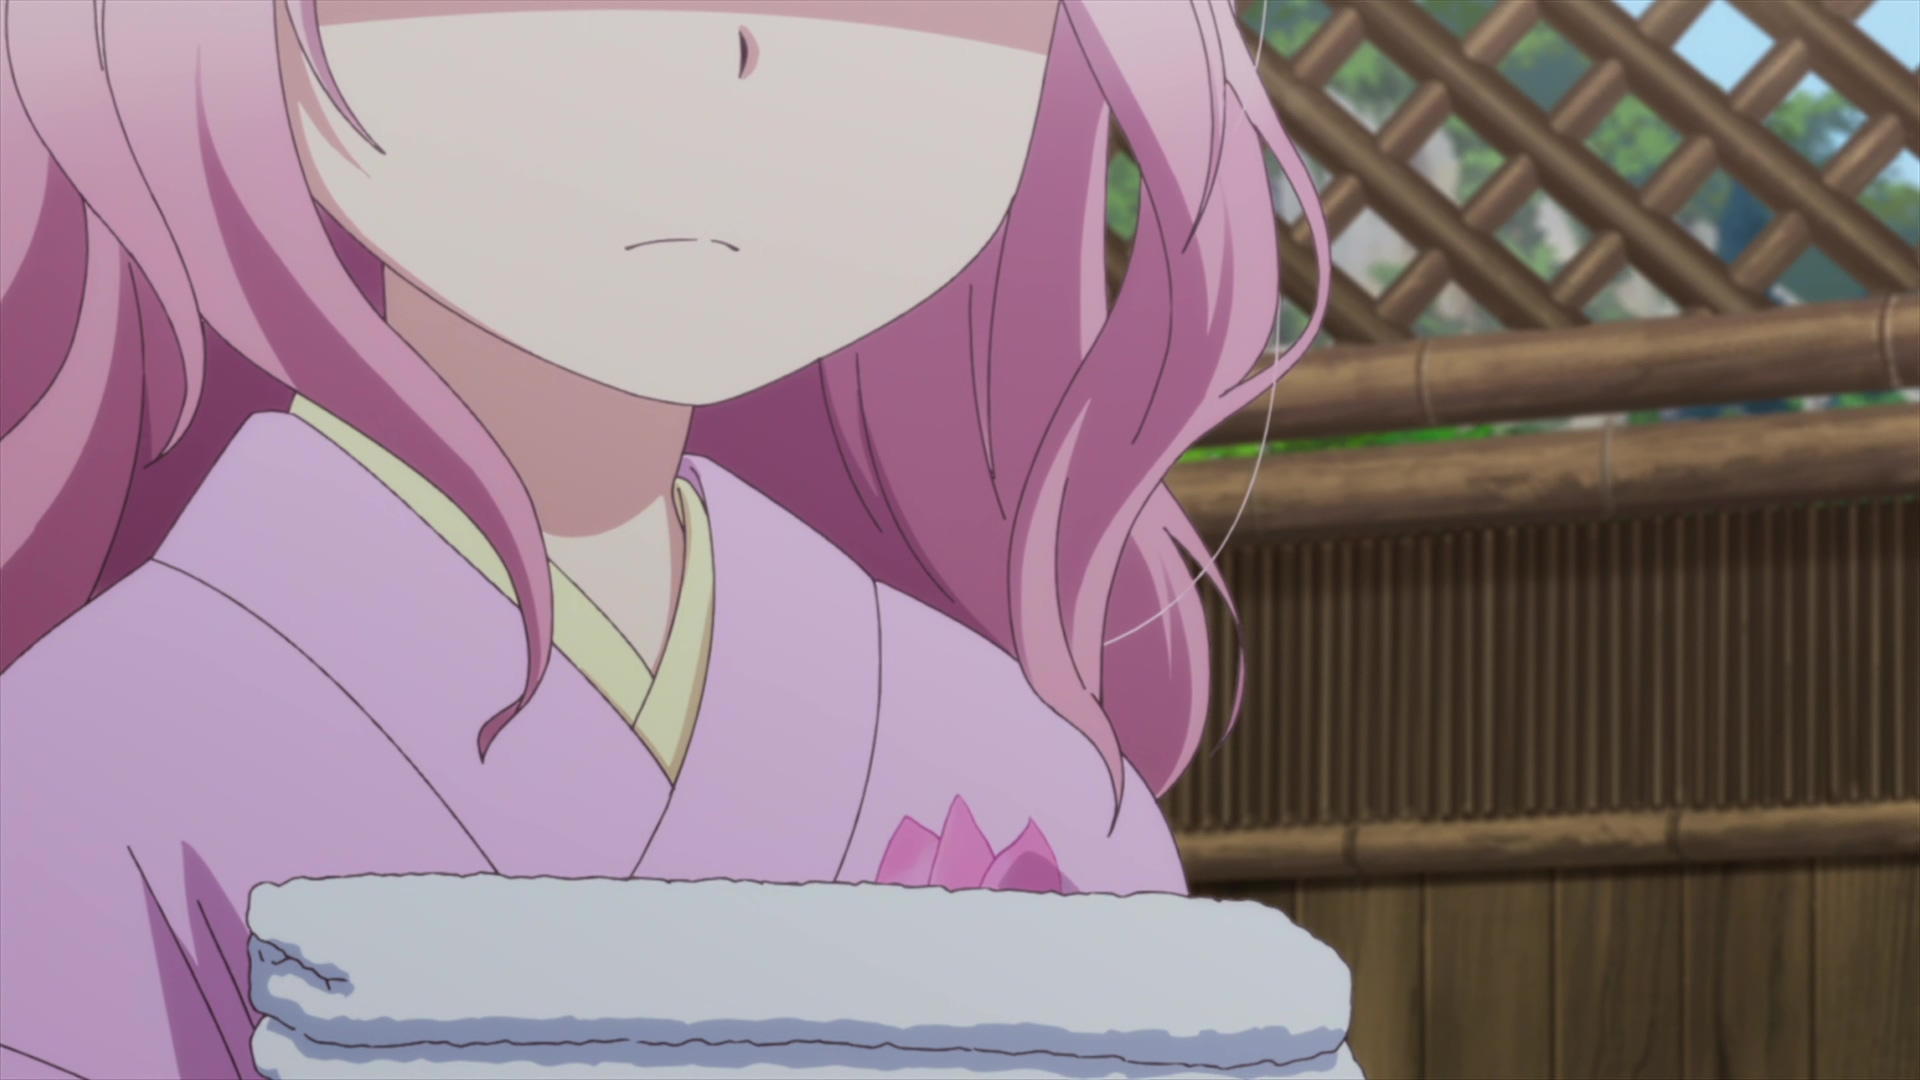莲: (1, 1, 1332, 1080)
